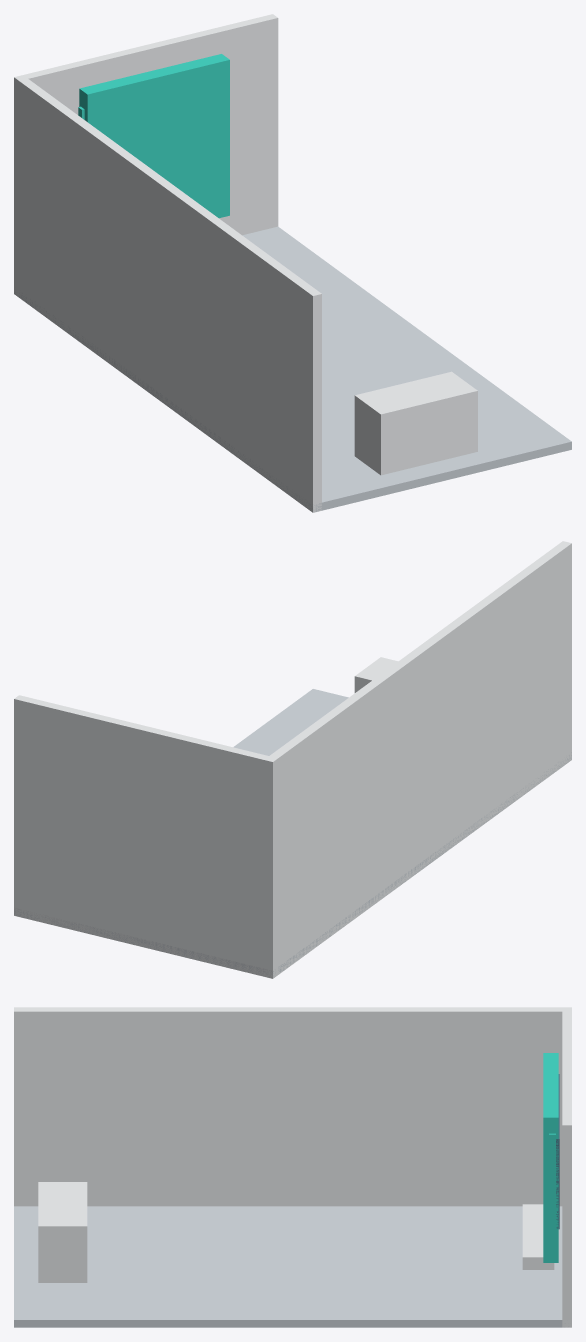
3 views of the same model, one above another, from view 1: azimuth 30°, elevation 25°; view 2: azimuth 150°, elevation 25°; view 3: azimuth 270°, elevation 25° (orthographic). The views are drawn at different scales.
Parts seen in each view (by area): view 1: Exhibition Booth Concept; view 2: Exhibition Booth Concept; view 3: Exhibition Booth Concept.
Part boxes in pixels (x1,y1,x2,y2): Exhibition Booth Concept: [14, 14, 571, 512]; Exhibition Booth Concept: [14, 541, 571, 978]; Exhibition Booth Concept: [14, 1007, 571, 1327].
Bounding box in the file's own units: 4 × 3.2 × 8.
